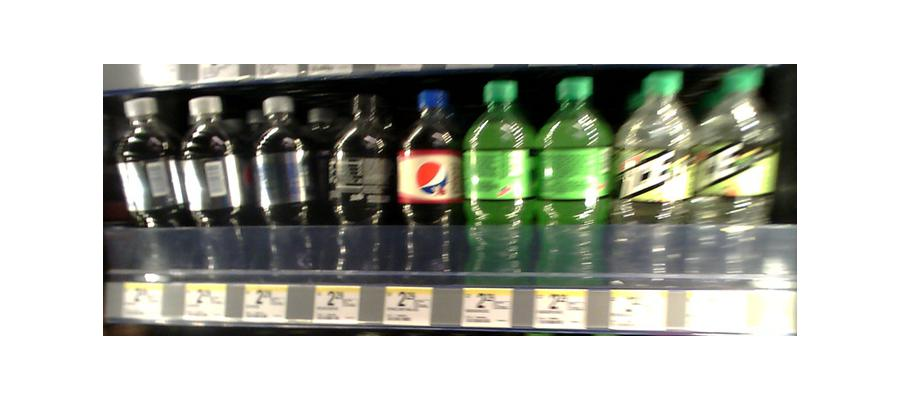bottle: (610, 66, 695, 288), (697, 72, 782, 280), (536, 74, 611, 282), (463, 78, 534, 282), (246, 97, 325, 279), (114, 97, 186, 278), (398, 86, 460, 278), (331, 88, 393, 276), (181, 94, 242, 283)
